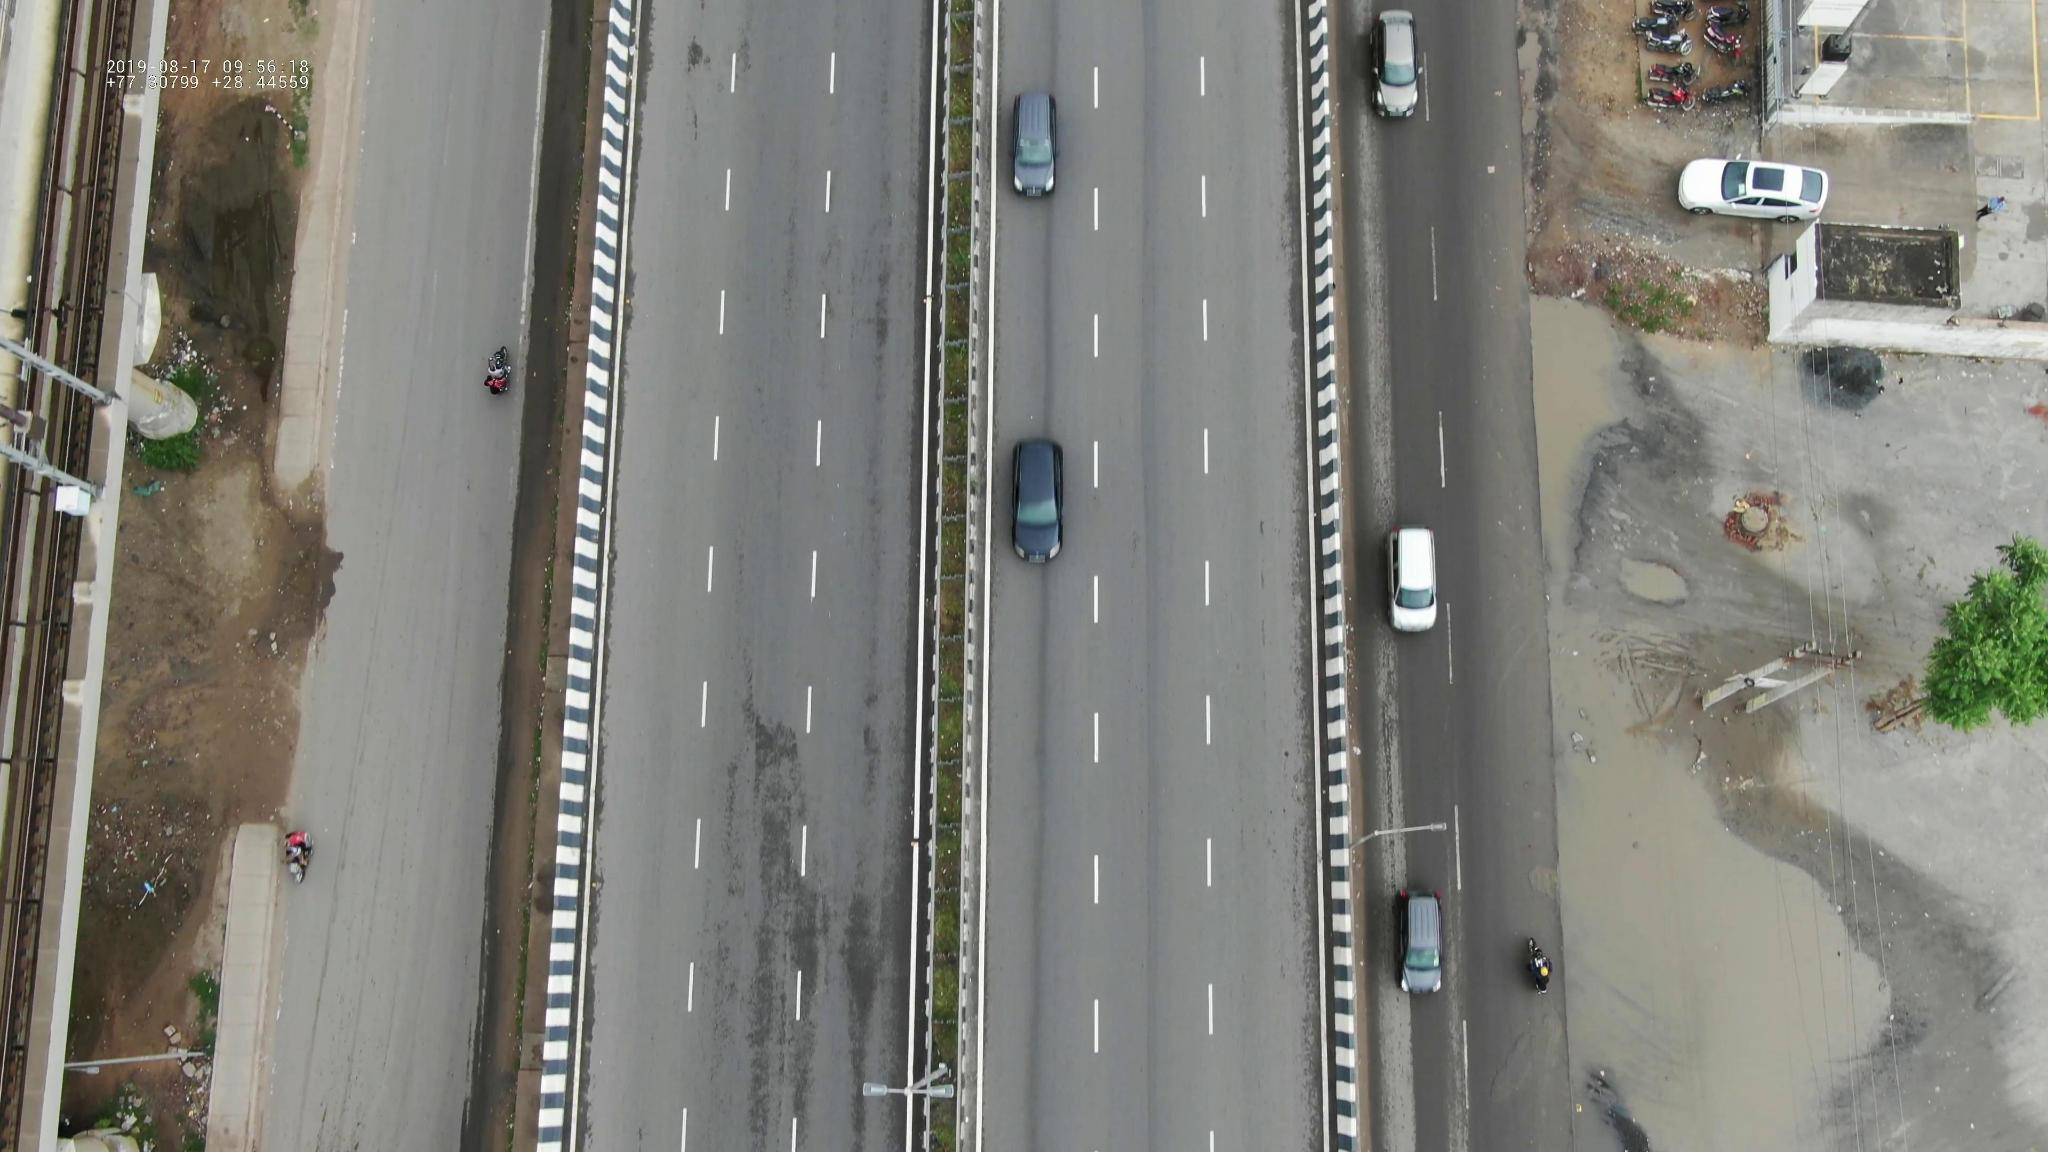Ravelling: (705, 677, 902, 1082)
